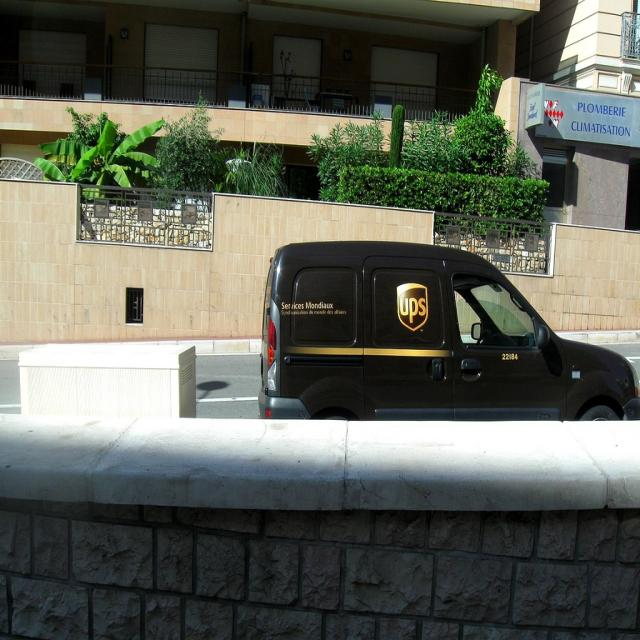ups: (397, 285, 429, 335)
